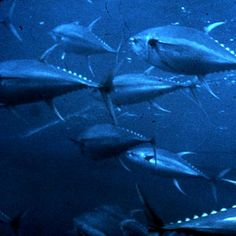Bluefina Tuna: (74, 119, 222, 193), (125, 22, 235, 84), (90, 75, 202, 107)
